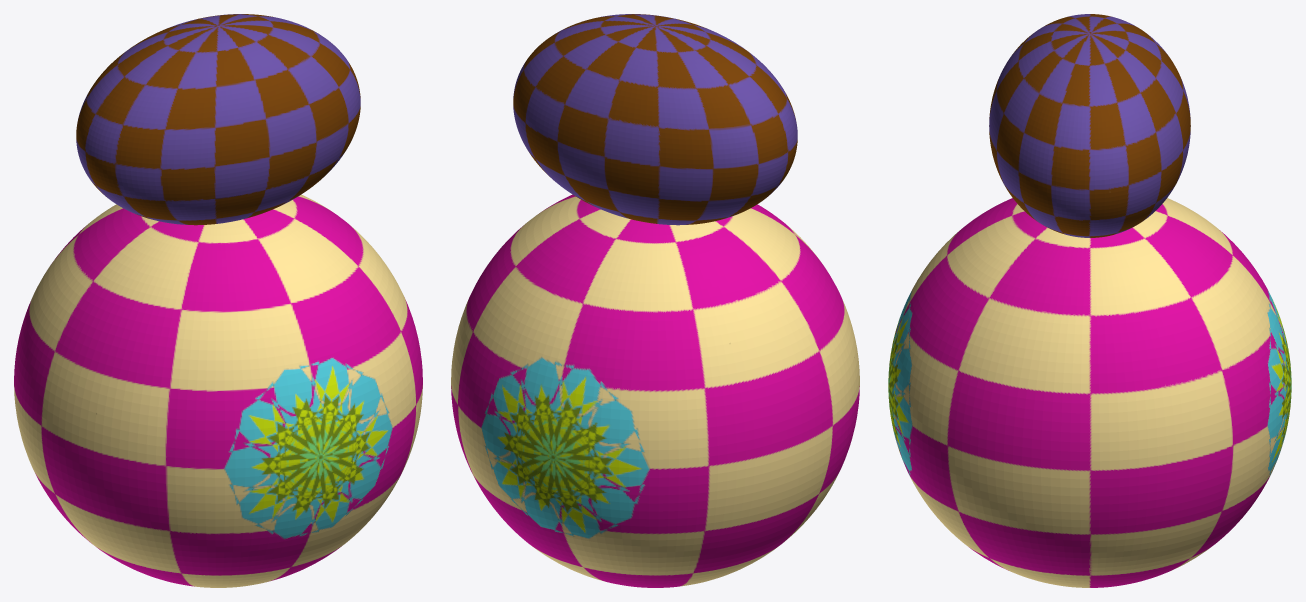
The model's file is BOD0_BMC13_BCC10_BPT4_FRC23_HEA1_HMC9_HCC3_HPT4_ELT0_ERT0_ELL1_ERL2_AP0_AAL0_AAR0_BEK0.fbx.
3 renders of one model, left to right at view 1: azimuth 30°, elevation 25°; view 2: azimuth 150°, elevation 25°; view 3: azimuth 270°, elevation 25°, orthographic.
Visible parts, largest first — view 1: Body; view 2: Body; view 3: Body.
Boxes of the visible parts, box(x1,y1,x2,y2) form: Body: box(14, 14, 422, 587); Body: box(451, 14, 859, 587); Body: box(888, 14, 1291, 587).
Size of the model in its own units: 49.36 by 72.41 by 49.36.
Materials: 1 (1 with a texture image).
